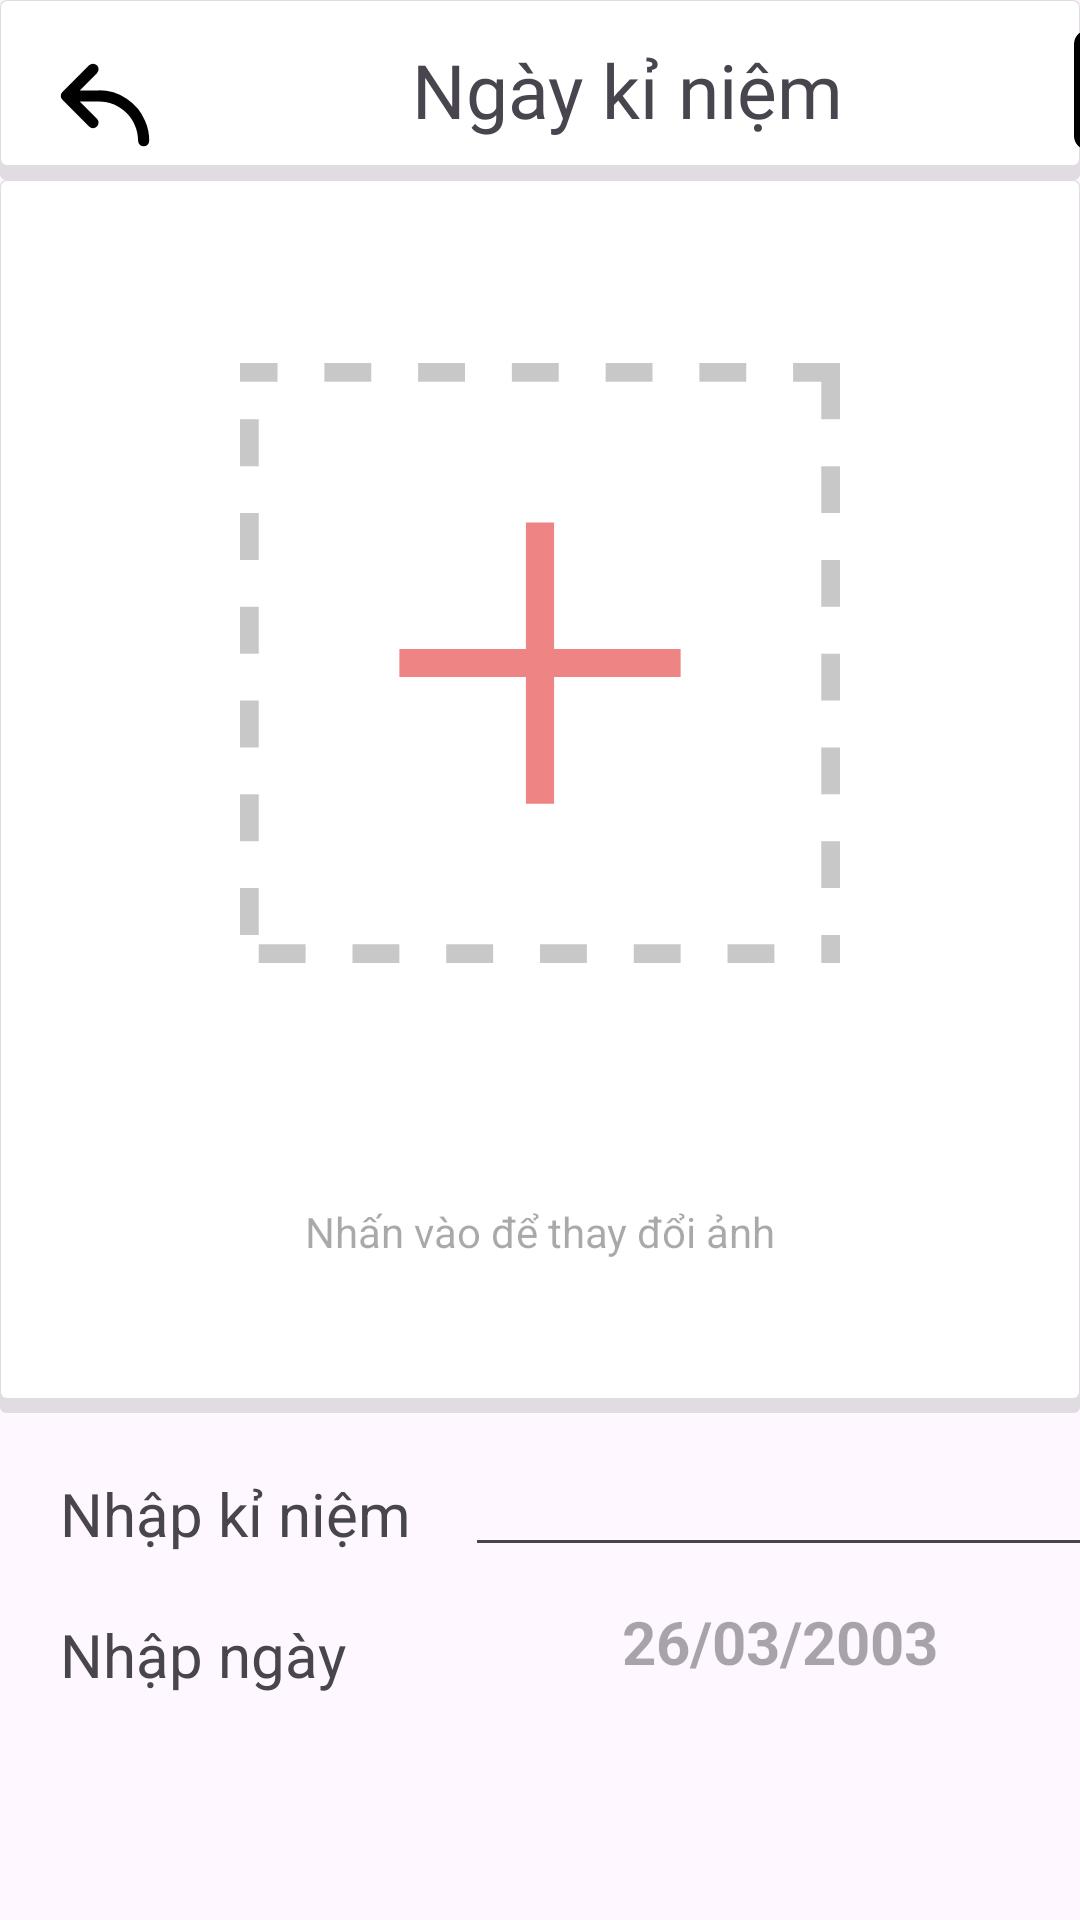

Screen size 1080*1920. Icon name, then its box in pixels as (x1, y1, x2, y2):
back: (30, 63, 180, 180)
